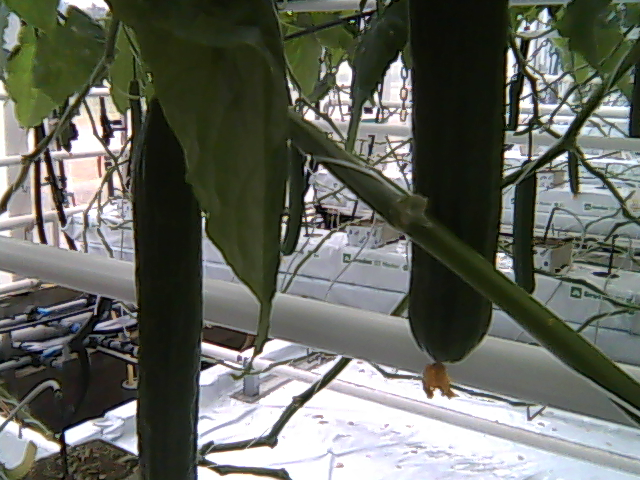concombre: (405, 1, 514, 397), (129, 93, 205, 480)
